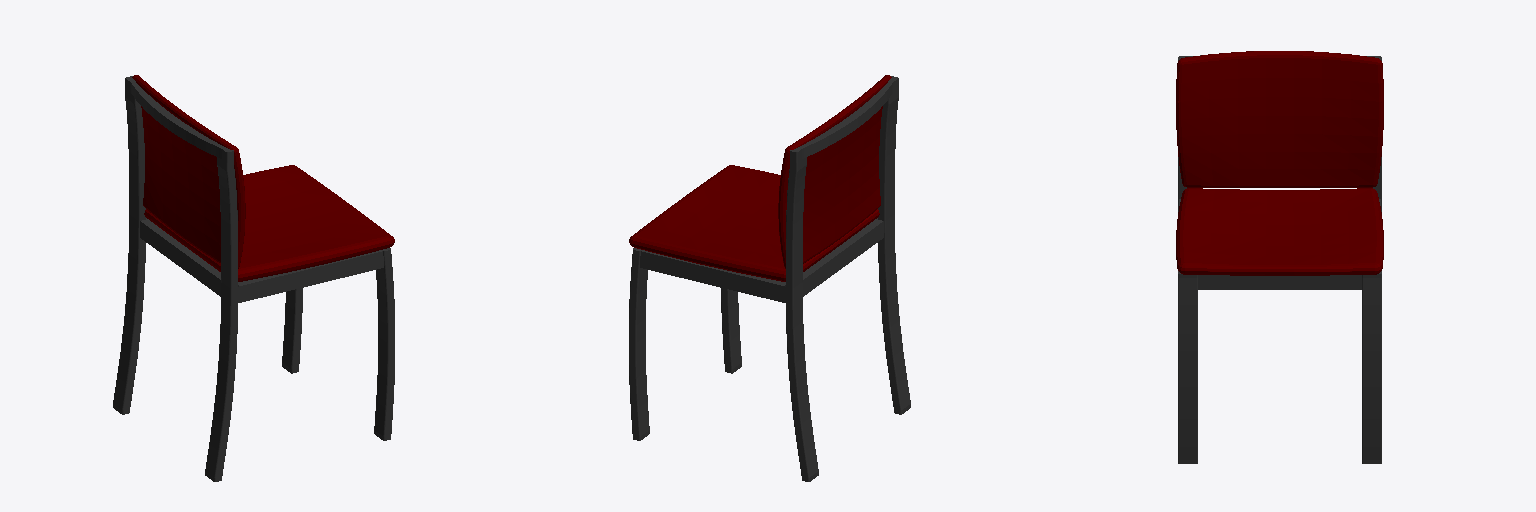
The model's file is Бархатный стул.obj.
3 views of the same model, side by side, from view 1: azimuth 30°, elevation 25°; view 2: azimuth 150°, elevation 25°; view 3: azimuth 270°, elevation 25° (orthographic).
Visible parts, largest first — view 1: ChamferBox07_7, ChamferBox08_8, Loft14_2, Loft03_1, Line65_5, Loft15_4, Rectangle16_6, Loft04_3; view 2: ChamferBox07_7, ChamferBox08_8, Loft03_1, Loft14_2, Line65_5, Loft04_3, Rectangle16_6, Loft15_4; view 3: ChamferBox08_8, ChamferBox07_7, Loft04_3, Loft15_4, Line65_5.
Boxes of the visible parts, <box> form: ChamferBox07_7: <box>144,165,394,281</box>; ChamferBox08_8: <box>132,75,245,268</box>; Loft14_2: <box>205,157,238,481</box>; Loft03_1: <box>113,89,145,414</box>; Line65_5: <box>140,218,383,302</box>; Loft15_4: <box>374,248,394,440</box>; Rectangle16_6: <box>125,76,233,162</box>; Loft04_3: <box>282,288,302,373</box>; ChamferBox07_7: <box>629,165,879,281</box>; ChamferBox08_8: <box>778,75,891,268</box>; Loft03_1: <box>785,157,818,481</box>; Loft14_2: <box>878,89,910,414</box>; Line65_5: <box>636,218,883,302</box>; Loft04_3: <box>629,248,649,440</box>; Rectangle16_6: <box>790,76,898,162</box>; Loft15_4: <box>721,288,741,373</box>; ChamferBox08_8: <box>1176,51,1383,187</box>; ChamferBox07_7: <box>1176,188,1383,275</box>; Loft04_3: <box>1362,271,1381,463</box>; Loft15_4: <box>1178,271,1197,463</box>; Line65_5: <box>1179,199,1380,289</box>.
Bounding box in the file's own units: 45.81 × 78.98 × 44.73.